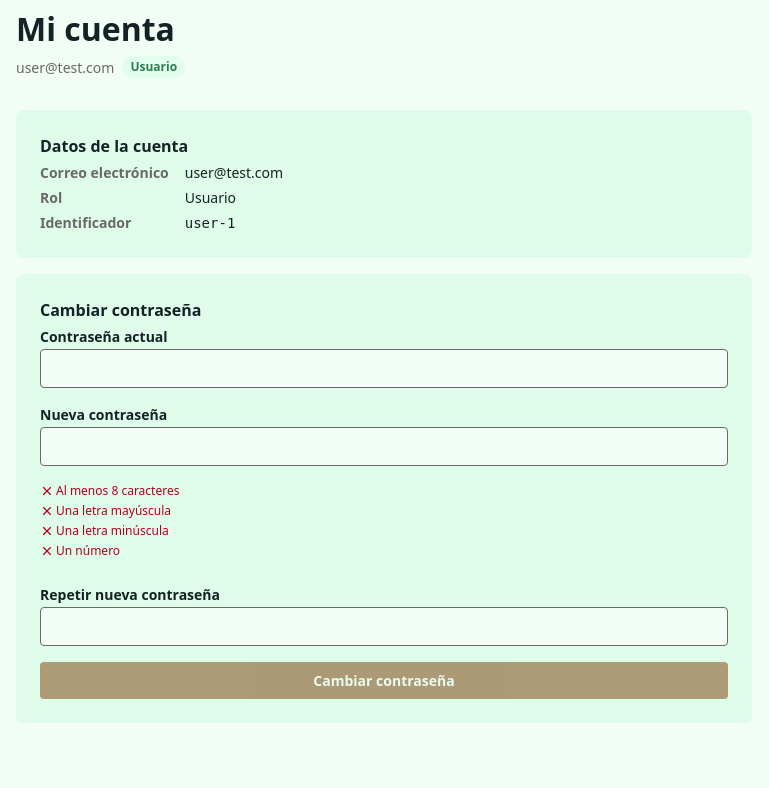
Scenario: CuentaPage › muestra aviso en tiempo real si las contrasenas no coinciden
Type "Newpass1" into the password field labelled "Nueva contraseña" at [384, 447], box [40, 427, 728, 466]
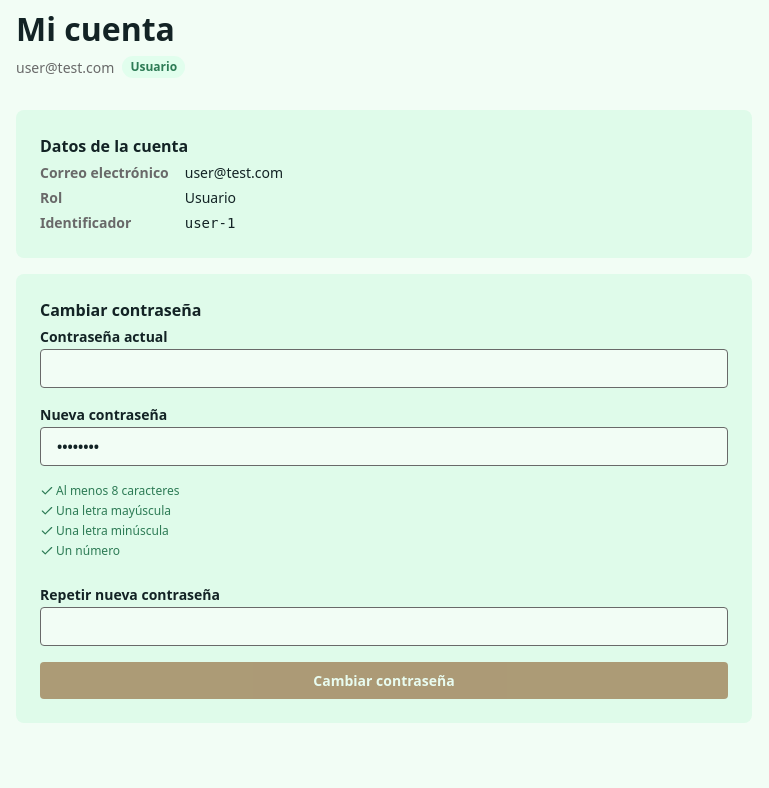
Type "Different1" into the password field labelled "Repetir nueva contraseña" at [384, 627], box [40, 607, 728, 646]
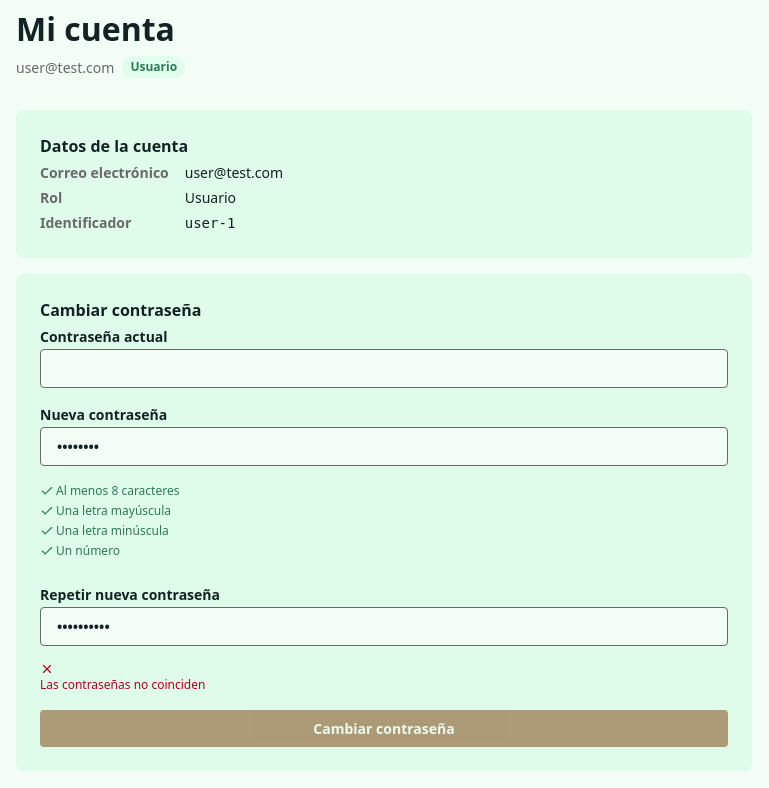
Expected: the button "Cambiar contraseña" is disabled, [40, 710, 728, 747]
Expected: the text "Las contraseñas no coinciden" is shown, [40, 662, 205, 693]
